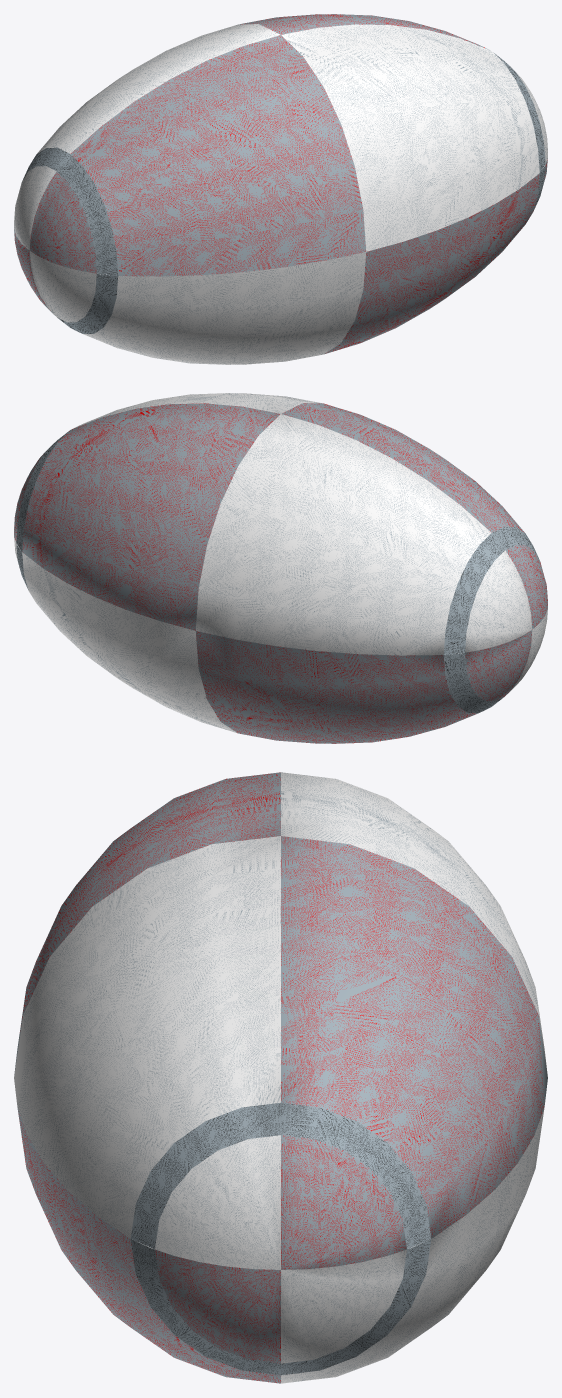
Rendered from RugbyBall.fbx.
3 renders of one model, top to bottom at view 1: azimuth 30°, elevation 25°; view 2: azimuth 150°, elevation 25°; view 3: azimuth 270°, elevation 25°, orthographic. The views are drawn at different scales.
Parts seen in each view (by area): view 1: Model; view 2: Model; view 3: Model.
Part boxes in pixels (left/top/right/bottom): Model: left=14, top=14, right=547, bottom=364; Model: left=14, top=393, right=547, bottom=743; Model: left=14, top=772, right=547, bottom=1383.
Size of the model in its own units: 51.24 by 30.11 by 30.11.
